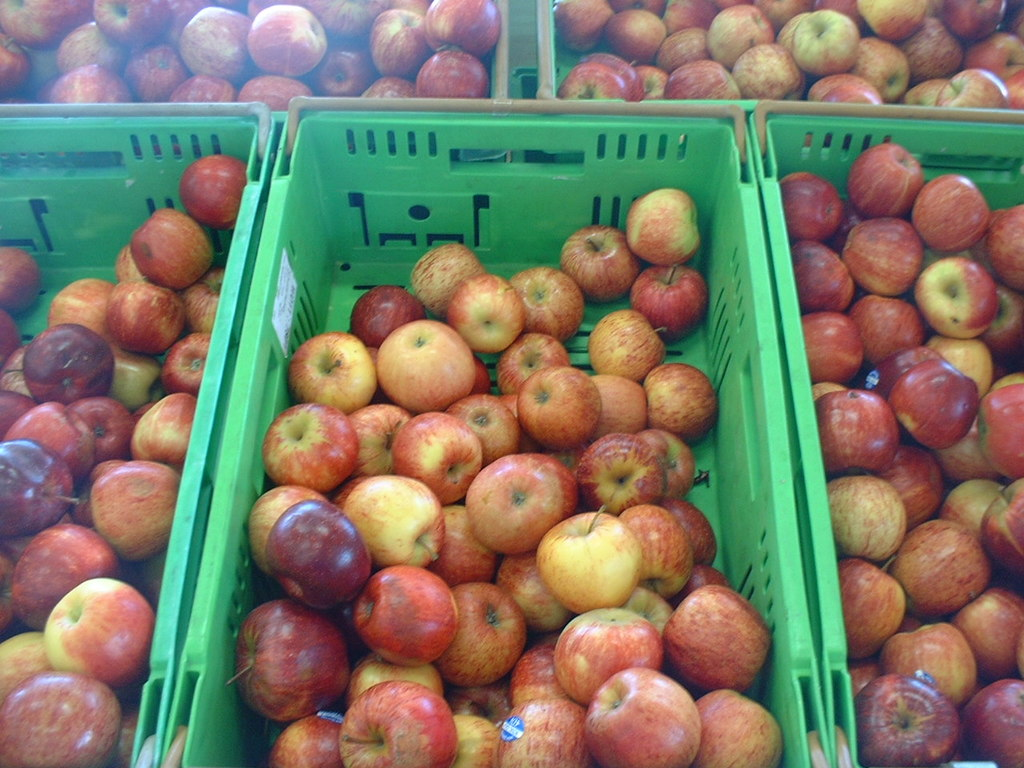Apple: (229, 186, 786, 767), (773, 141, 1023, 767), (0, 156, 248, 767), (0, 0, 504, 110), (550, 0, 1023, 108), (364, 308, 481, 416)
